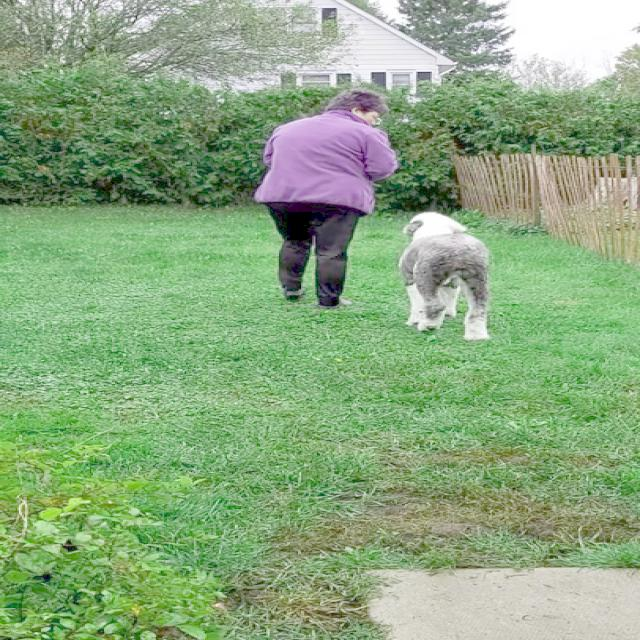Unleashed_Dog: (296, 192, 492, 342)
